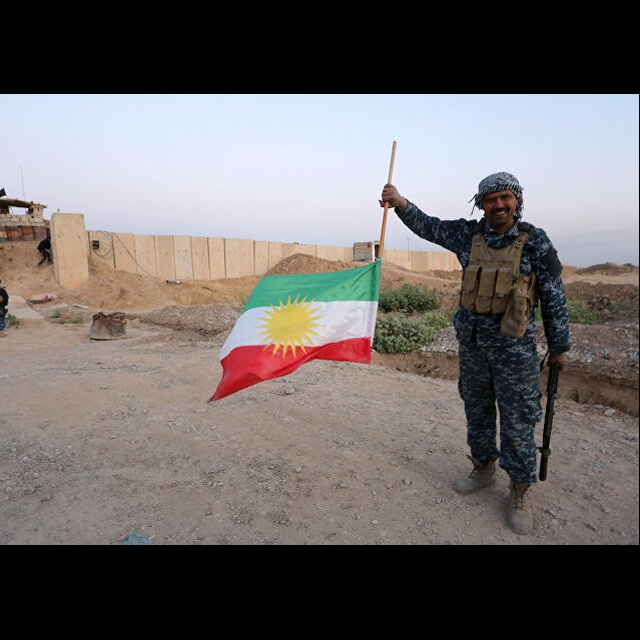IBKY: (226, 267, 358, 371)
